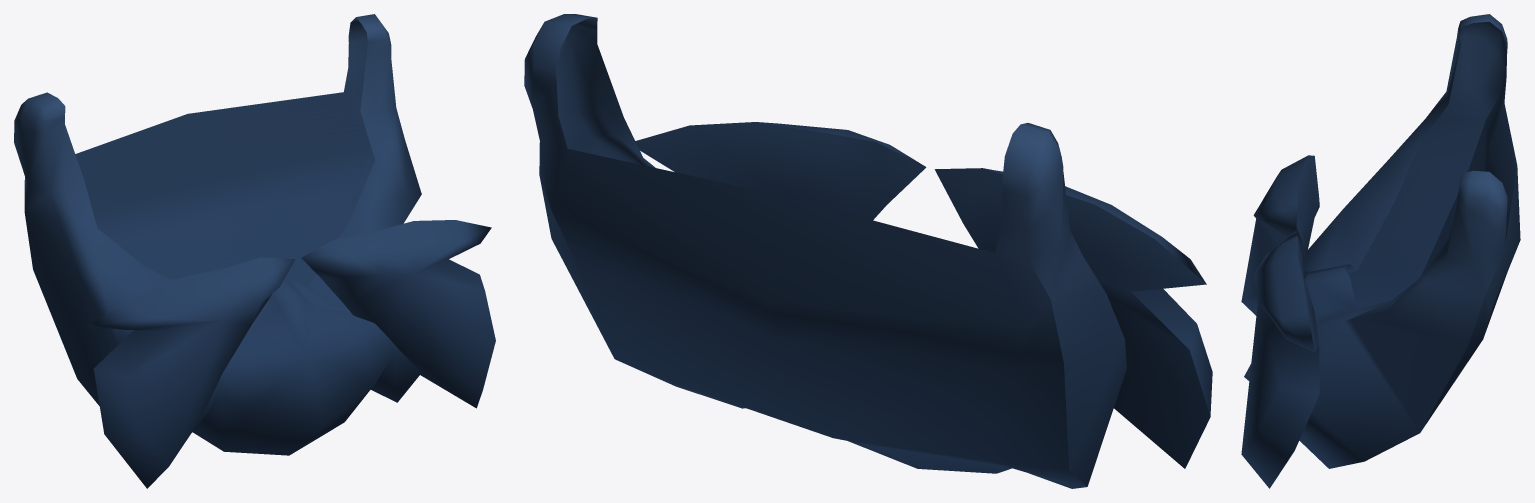
File: Beard_Blue_15.fbx
3 views of the same model, side by side, from view 1: azimuth 30°, elevation 25°; view 2: azimuth 150°, elevation 25°; view 3: azimuth 270°, elevation 25° (orthographic). The views are drawn at different scales.
Visible parts, largest first — view 1: Beard_Blue_15; view 2: Beard_Blue_15; view 3: Beard_Blue_15.
Part boxes in pixels (bbox=[...]): Beard_Blue_15: bbox=[14, 14, 495, 488]; Beard_Blue_15: bbox=[524, 14, 1212, 488]; Beard_Blue_15: bbox=[1241, 14, 1520, 488].
Bounding box in the file's own units: 57.97 × 45.99 × 34.69.
